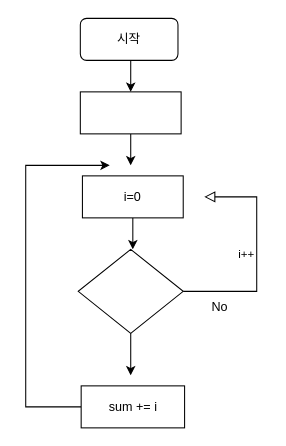
The diagram is 286 pixels wide and 446 high, and some of its shapes have lost their labels. The box of each missing label's shape, as (x1, y1, x2, y2) in pixels:
i%3==0: (77, 248, 183, 333)
int sum =0: (79, 91, 181, 134)
